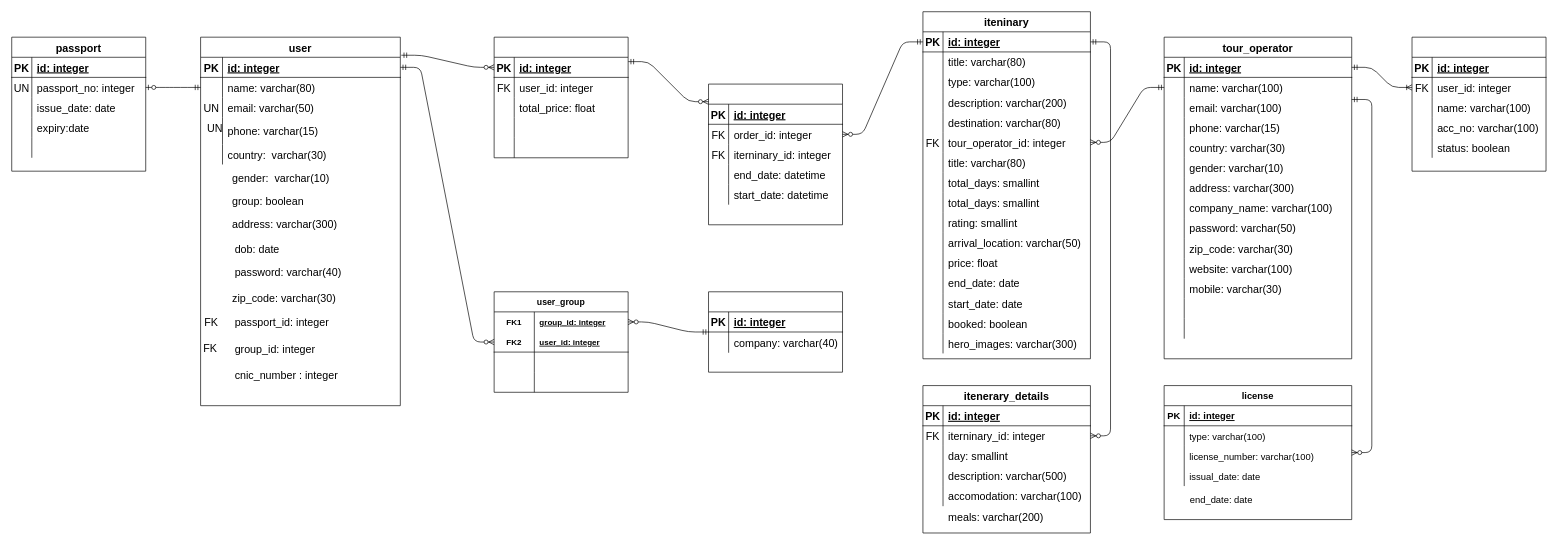
This 1558x545 diagram has some shape labels left out. Each missing label, with the box of its shape:
bank: (1411, 37, 1546, 171)
group: (708, 291, 843, 372)
order: (493, 37, 628, 158)
tour: (708, 83, 843, 225)
